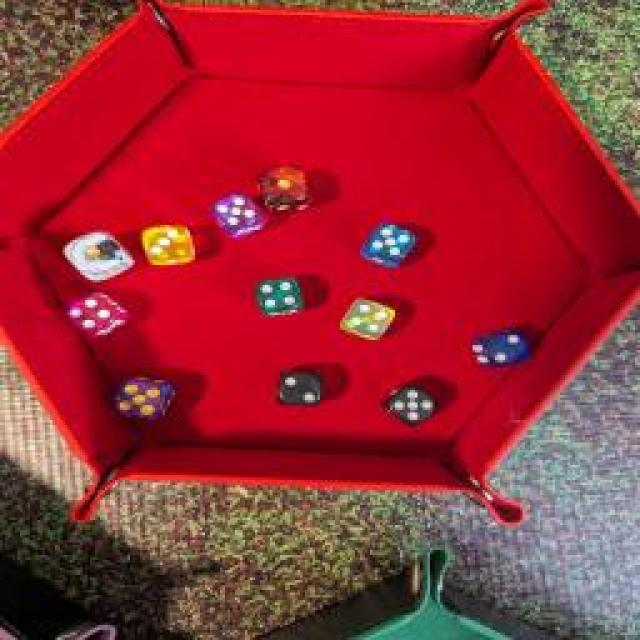dice_1: (61, 232, 141, 282), (250, 162, 315, 212)
dice_2: (272, 365, 326, 410), (470, 329, 530, 369)
dice_3: (140, 220, 200, 265)
dice_4: (58, 290, 130, 342), (336, 295, 402, 345), (249, 275, 309, 317)
dice_5: (110, 372, 172, 426), (355, 220, 420, 268), (381, 382, 439, 426), (208, 194, 268, 234)
